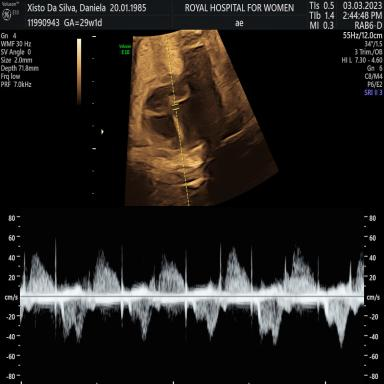Ultrasound-Waves: (26, 214, 364, 384)
